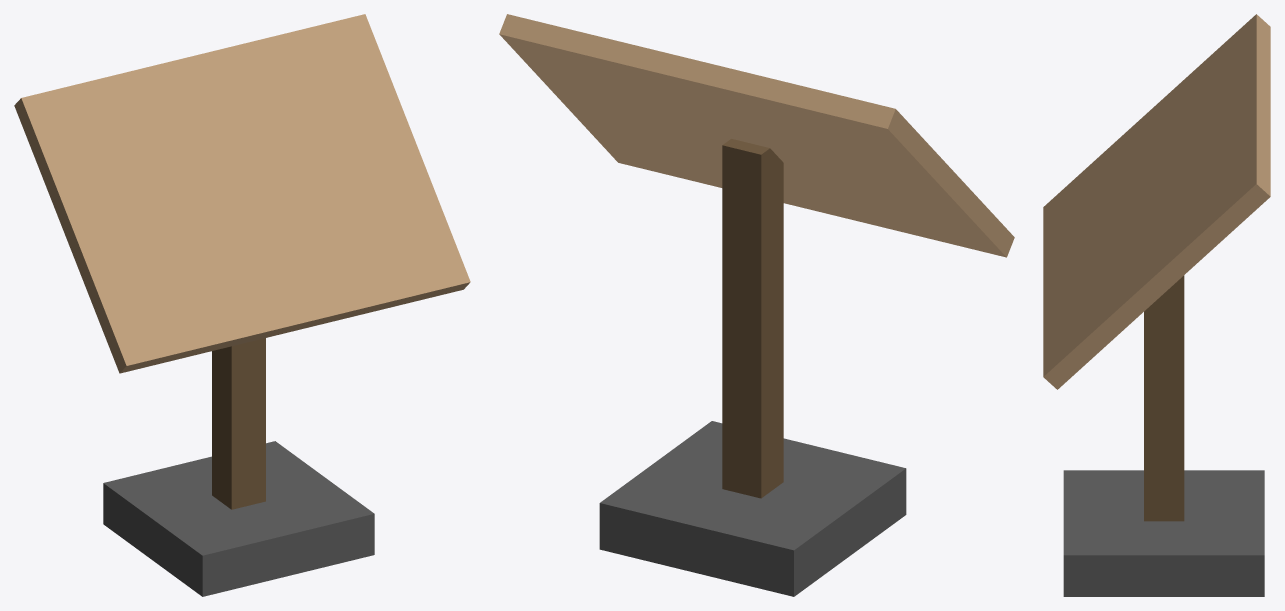
File: KanonControlPanel.fbx
The picture shows the model from 3 angles, left to right: view 1: azimuth 30°, elevation 25°; view 2: azimuth 150°, elevation 25°; view 3: azimuth 270°, elevation 25°; orthographic projection. The views are drawn at different scales.
Visible parts, largest first — view 1: pCube4; view 2: pCube4; view 3: pCube4.
Part boxes in pixels (left/top/right/bottom): pCube4: left=14, top=14, right=470, bottom=596; pCube4: left=499, top=14, right=1014, bottom=596; pCube4: left=1043, top=14, right=1270, bottom=596.
Bounding box in the file's own units: 2 × 2.5 × 1.13.
